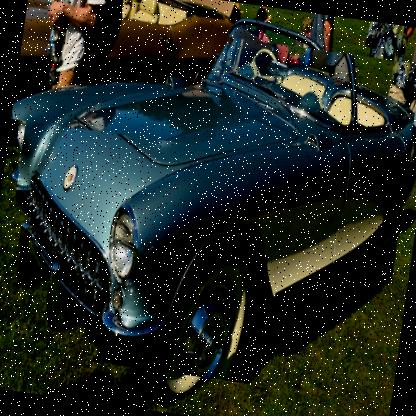Car: (0, 11, 415, 404), (11, 0, 235, 150)
